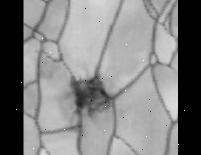good_void: (68, 69, 114, 115)
